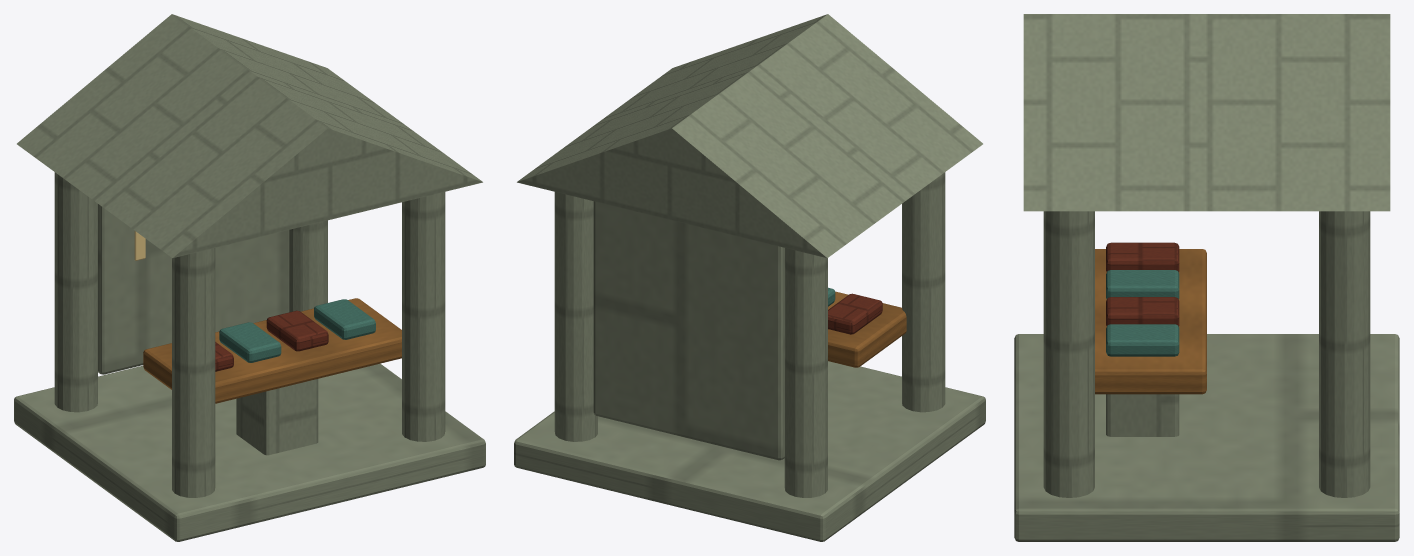
The model's file is archive.glb.
3 renders of one model, left to right at view 1: azimuth 30°, elevation 25°; view 2: azimuth 150°, elevation 25°; view 3: azimuth 270°, elevation 25°, orthographic. The views are drawn at different scales.
Parts seen in each view (by area): view 1: archive_vault, archive_base, inscribed_tablet, ancient_column.002, ancient_column, ancient_column.001, reading_desk, stone_table, ancient_column.003, book.001, book.002, book.003; view 2: archive_vault, inscribed_tablet, archive_base, ancient_column.001, ancient_column.003, ancient_column, reading_desk, book; view 3: archive_vault, archive_base, ancient_column.002, ancient_column.003, reading_desk, stone_table, book.003, book, book.002, book.001.
Part boxes in pixels (left/top/right/bottom): archive_vault: left=17, top=14, right=482, bottom=258; archive_base: left=14, top=363, right=485, bottom=541; inscribed_tablet: left=98, top=204, right=289, bottom=374; ancient_column.002: left=402, top=192, right=445, bottom=441; ancient_column: left=172, top=248, right=215, bottom=497; ancient_column.001: left=54, top=172, right=97, bottom=412; reading_desk: left=143, top=298, right=401, bottom=403; stone_table: left=236, top=379, right=318, bottom=455; ancient_column.003: left=289, top=220, right=327, bottom=312; book.001: left=219, top=322, right=281, bottom=362; book.002: left=266, top=310, right=328, bottom=351; book.003: left=314, top=299, right=375, bottom=339; archive_vault: left=517, top=14, right=982, bottom=258; inscribed_tablet: left=593, top=201, right=784, bottom=460; archive_base: left=514, top=361, right=985, bottom=541; ancient_column.001: left=784, top=248, right=827, bottom=497; ancient_column.003: left=554, top=192, right=597, bottom=441; ancient_column: left=902, top=172, right=945, bottom=412; reading_desk: left=828, top=291, right=906, bottom=367; book: left=828, top=293, right=882, bottom=334; archive_vault: left=1023, top=14, right=1390, bottom=211; archive_base: left=1014, top=334, right=1399, bottom=541; ancient_column.002: left=1043, top=211, right=1094, bottom=497; ancient_column.003: left=1319, top=211, right=1370, bottom=497; reading_desk: left=1095, top=249, right=1206, bottom=394; stone_table: left=1106, top=394, right=1179, bottom=436; book.003: left=1106, top=324, right=1179, bottom=356; book: left=1106, top=242, right=1179, bottom=272; book.002: left=1106, top=297, right=1179, bottom=326; book.001: left=1106, top=270, right=1179, bottom=299.
Size of the model in its own units: 2.3 by 2.65 by 2.1.
5 materials, 4 textured.
